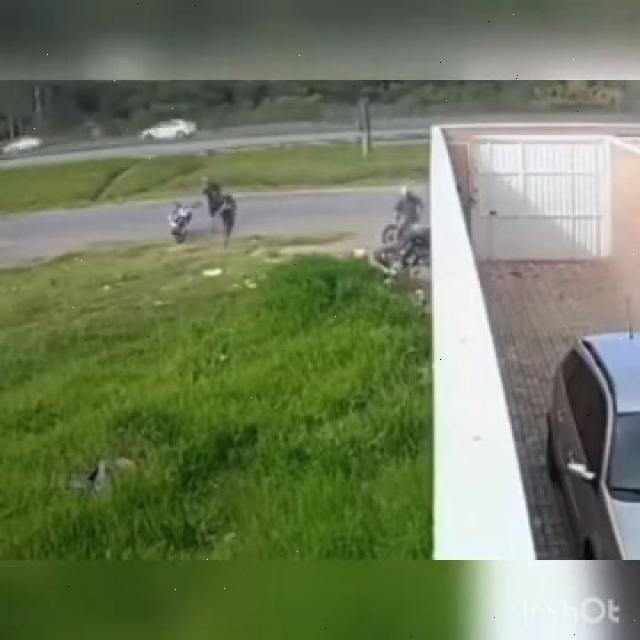accident: (373, 229, 439, 283)
